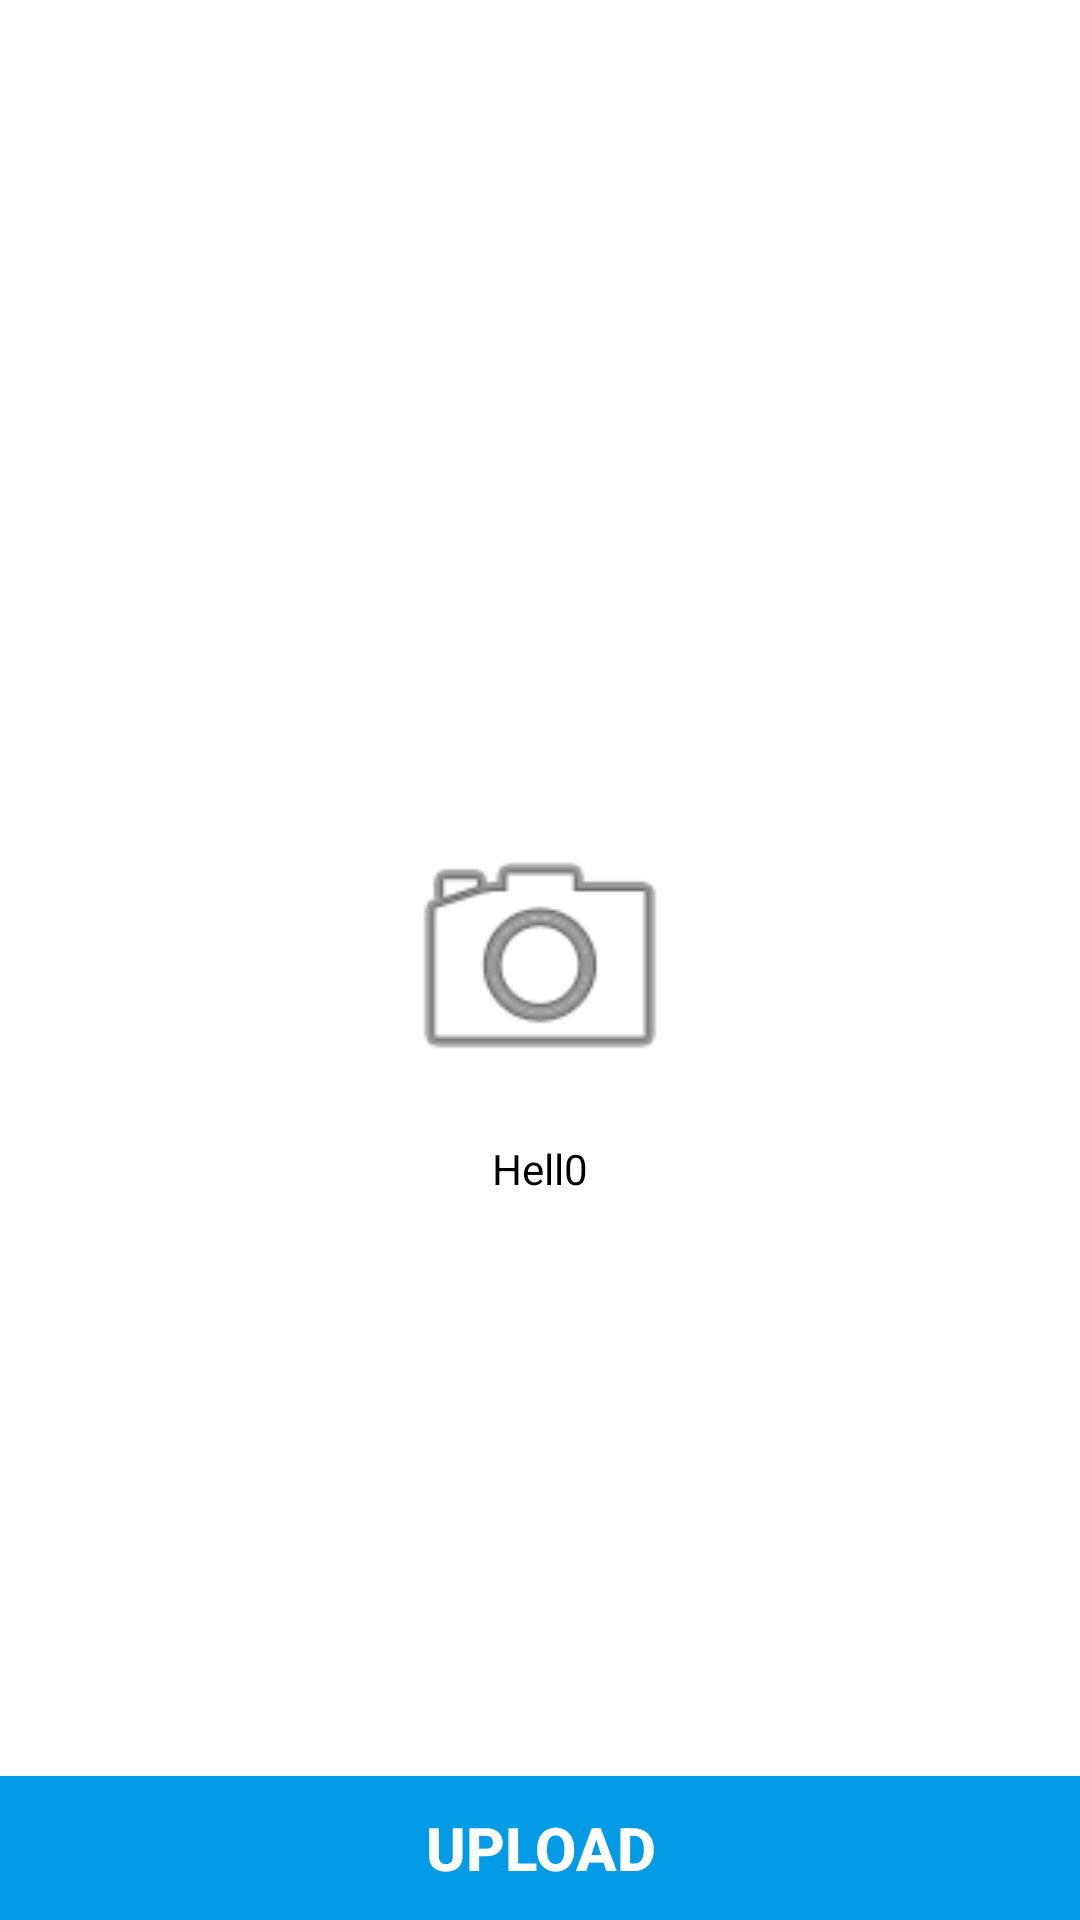

Icons on this 1080x1920 Android screen, each with its box as rect(x1, y1, x2, y2):
camera: rect(424, 863, 656, 1048)
